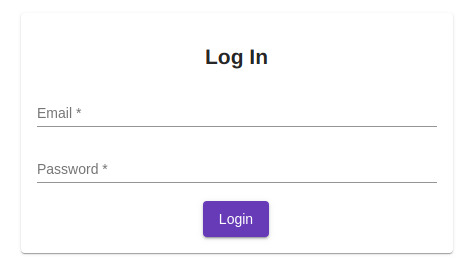_form_: (29, 1, 445, 274)
button: (202, 200, 271, 240)
field_line: (35, 101, 438, 127), (35, 162, 438, 184)
